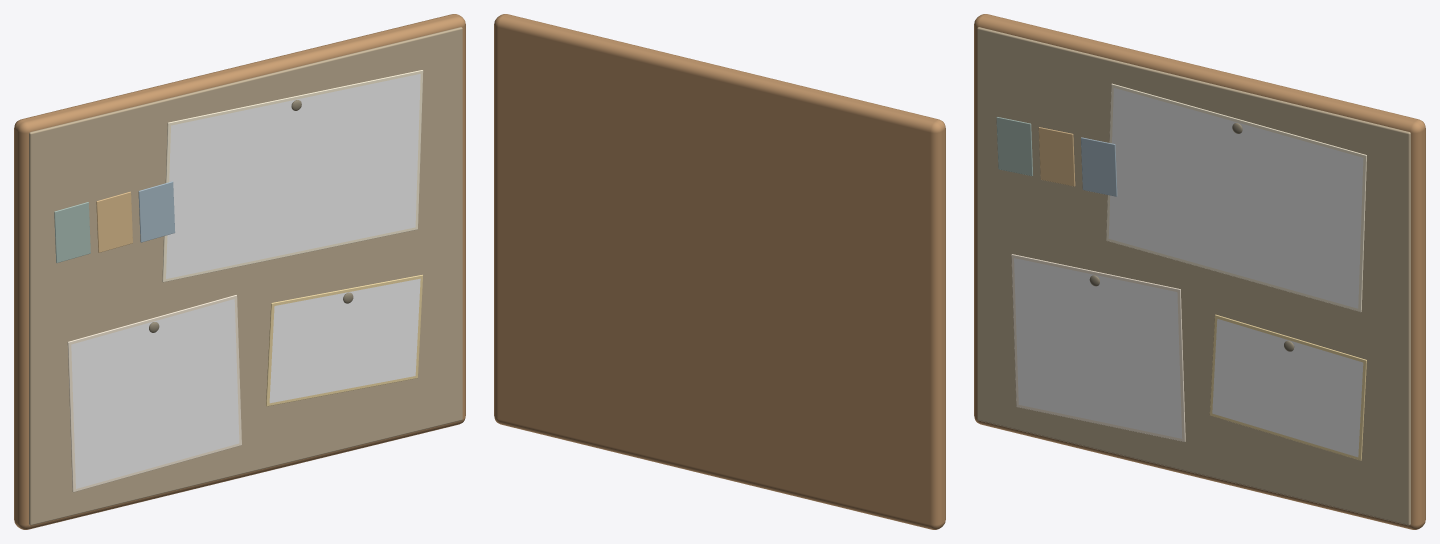
Rendered from family-studio-board-v1.glb.
The picture shows the model from 3 angles, left to right: view 1: azimuth 30°, elevation 25°; view 2: azimuth 150°, elevation 25°; view 3: azimuth 330°, elevation 25°; orthographic projection.
Visible parts, largest first — view 1: Linen backing, Weekend sketch, Garden diary, Maple pinboard frame, Workshop ticket, Paper edge (×3), Paint swatch (×3); view 2: Maple pinboard frame; view 3: Linen backing, Weekend sketch, Garden diary, Maple pinboard frame, Workshop ticket, Paper edge (×3), Paint swatch (×3).
Boxes of the visible parts, x1,y1,x2,y2 form: Linen backing: [29, 27, 462, 525]; Weekend sketch: [166, 74, 420, 278]; Garden diary: [71, 299, 239, 488]; Maple pinboard frame: [14, 14, 465, 529]; Workshop ticket: [269, 278, 420, 403]; Paper edge (×3): [67, 70, 423, 492]; Paint swatch (×3): [54, 181, 175, 262]; Maple pinboard frame: [494, 14, 945, 529]; Linen backing: [977, 27, 1410, 525]; Weekend sketch: [1108, 88, 1363, 308]; Garden diary: [1014, 258, 1182, 438]; Maple pinboard frame: [974, 14, 1425, 529]; Workshop ticket: [1212, 319, 1363, 457]; Paper edge (×3): [1011, 83, 1366, 460]; Paint swatch (×3): [996, 117, 1117, 196].
Bounding box in the file's own units: 0.7 × 0.61 × 0.044.
